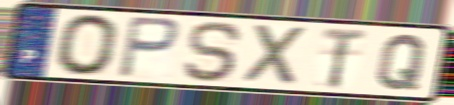O: (53, 12, 122, 78)
P: (115, 14, 182, 81)
Q: (374, 32, 431, 92)
S: (181, 19, 246, 84)
T: (319, 26, 370, 90)
X: (242, 22, 312, 88)
